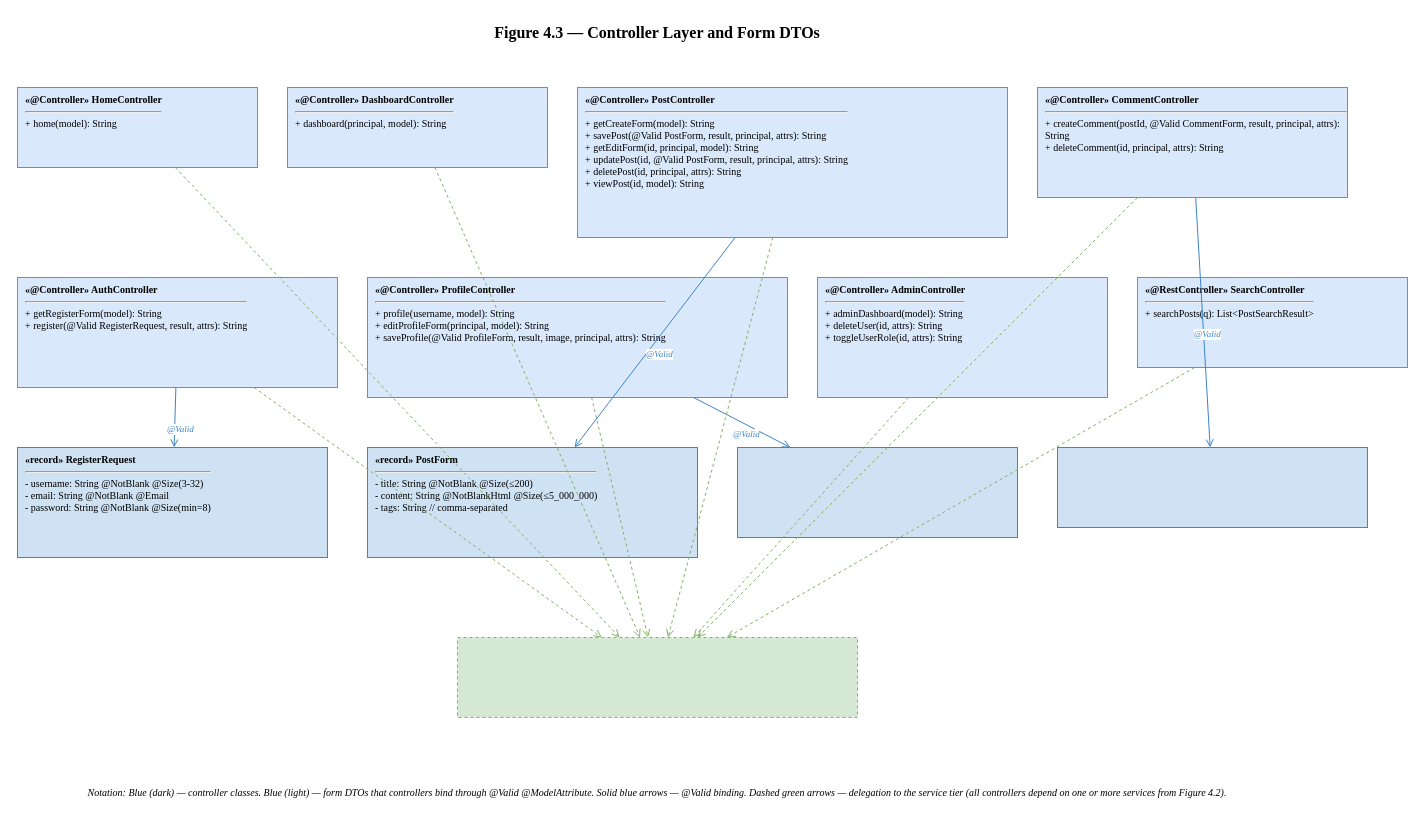
The diagram is 1425 pixels wide and 834 high, and some of its shapes have lost their labels. Each missing label, with the centre of its shape:
Service Tier (see Figure 4.2): the point at 657,677
«record» CommentForm - content: String @NotBlank @Size(≤2000): the point at 1212,487
«record» ProfileForm - displayName: String @NotBlank - bio: String @Size(≤500): the point at 877,492
